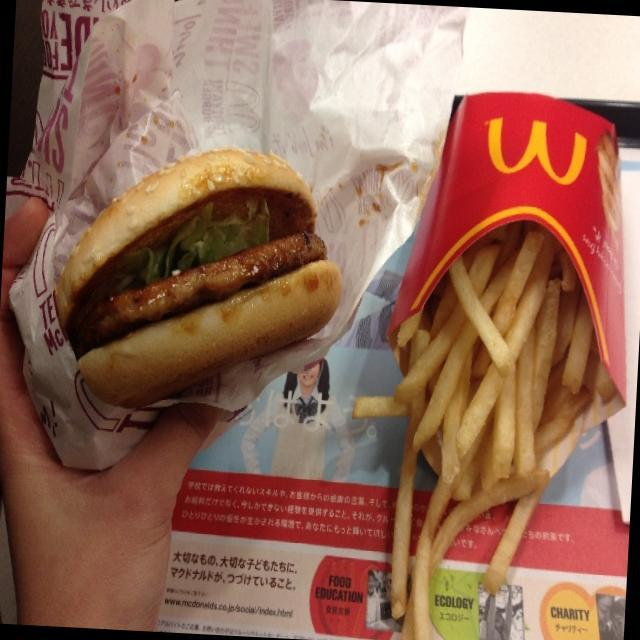French Fries: (362, 223, 620, 582)
Hamburger: (50, 126, 355, 404)
